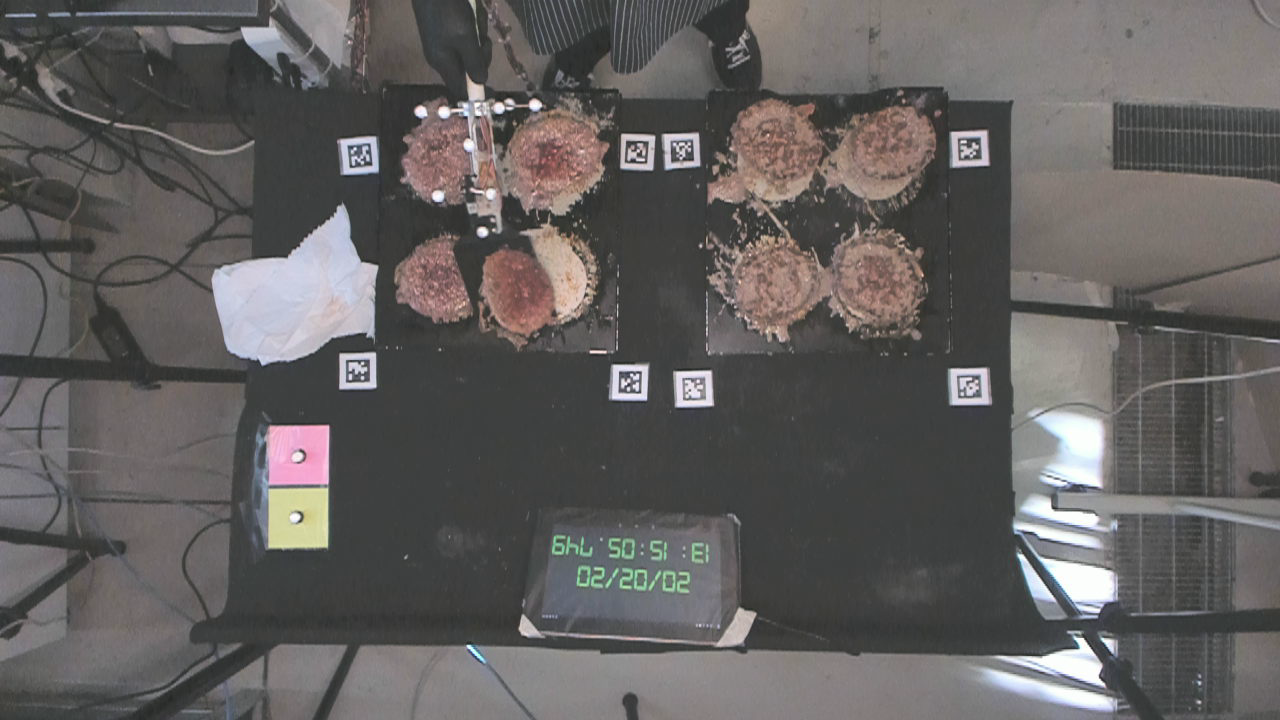hamburger: (830, 233, 927, 329), (508, 109, 605, 199), (722, 244, 815, 325), (735, 98, 826, 176), (392, 244, 478, 321), (855, 99, 936, 177), (483, 247, 555, 331)
marker: (268, 424, 328, 485)
